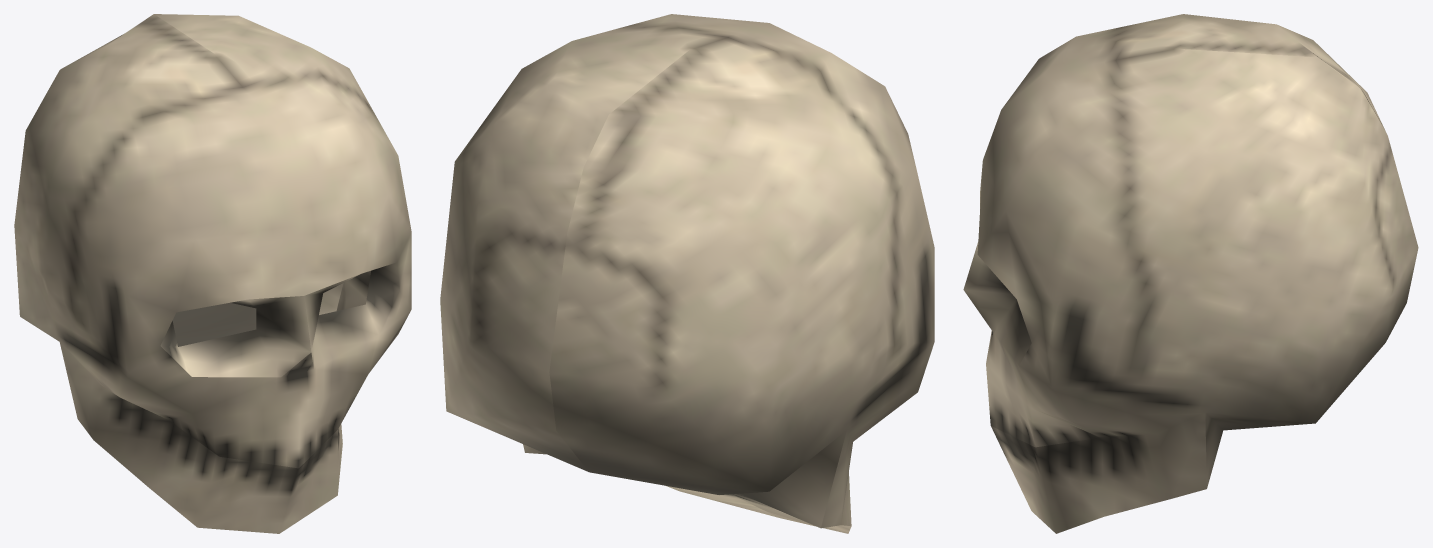
The model's file is M_SkullMask.fbx.
3 views of the same model, side by side, from view 1: azimuth 30°, elevation 25°; view 2: azimuth 150°, elevation 25°; view 3: azimuth 270°, elevation 25° (orthographic). The views are drawn at different scales.
Parts seen in each view (by area): view 1: Male_Skeleton_(1).002; view 2: Male_Skeleton_(1).002; view 3: Male_Skeleton_(1).002.
Boxes of the visible parts, bbox=[...] form: Male_Skeleton_(1).002: bbox=[14, 14, 411, 533]; Male_Skeleton_(1).002: bbox=[440, 14, 934, 533]; Male_Skeleton_(1).002: bbox=[963, 14, 1418, 533].
Size of the model in its own units: 0.1925 by 0.1501 by 0.1709.
